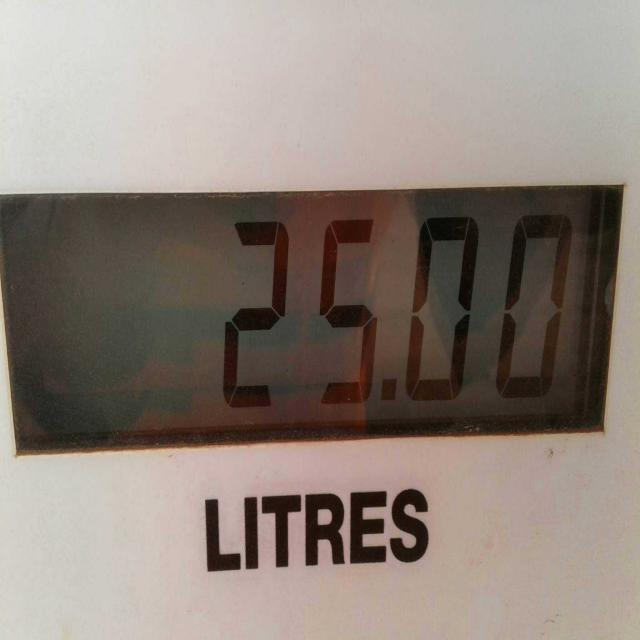.: (376, 376, 400, 407)
0: (403, 218, 479, 402), (499, 213, 573, 398)
2: (222, 216, 293, 408)
5: (313, 218, 378, 408)
screen: (0, 186, 622, 445)
